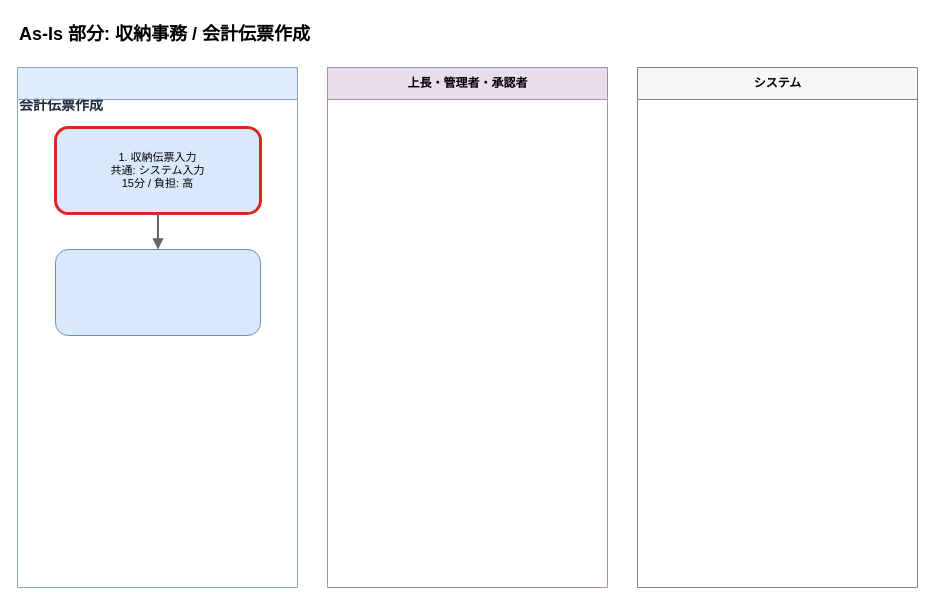
This 935x605 diagram has some shape labels left out. The shapes that lost their labels are listed below. From the top down, each one's box as (x1, y1, x2, y2) in pixels, then its label:
(54, 248, 260, 336): 2. 収納証憑保管 共通: 記録・保管 10分 / 負担: 中
(16, 66, 298, 588): 担当者・業務部門
